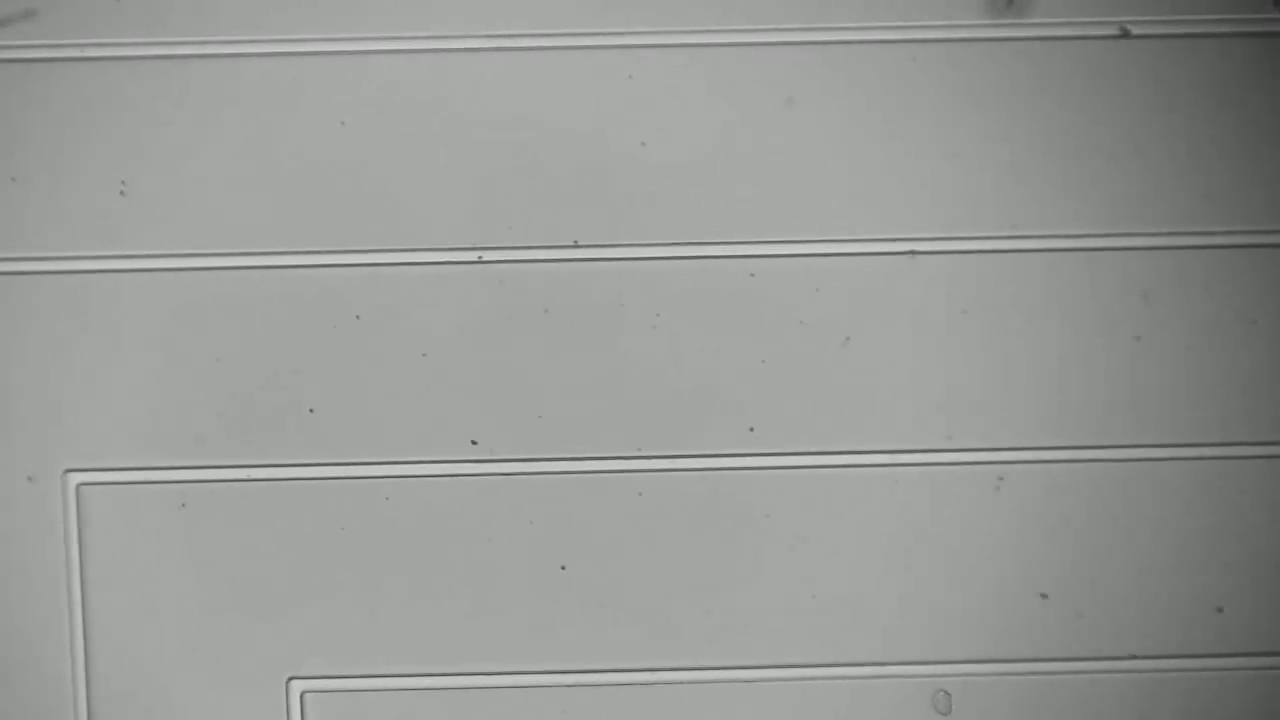stains_enbedded: (1111, 12, 1143, 45)
